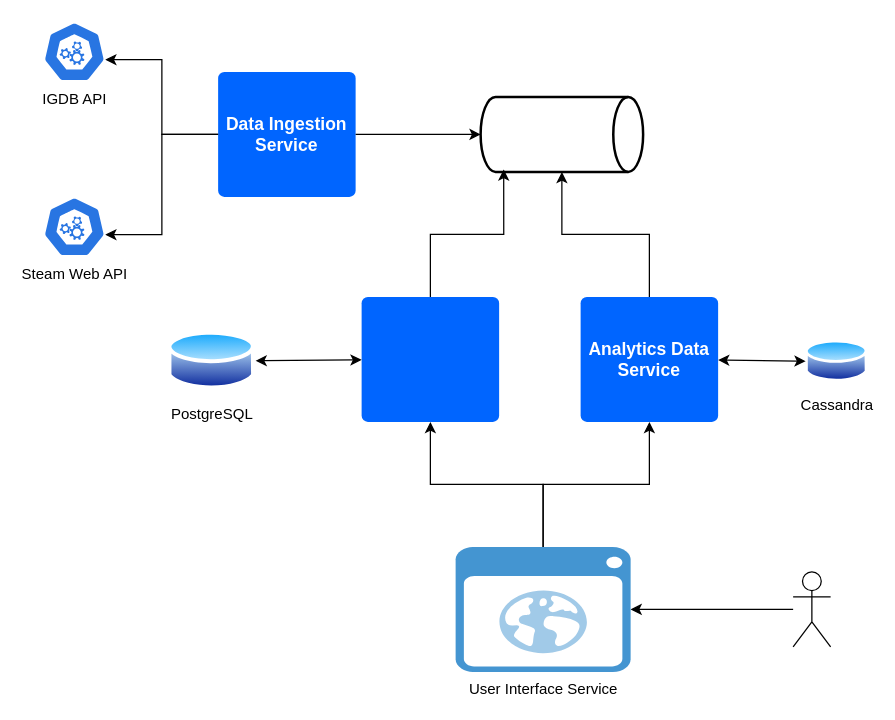
This 895x720 diagram has some shape labels left out. Each missing label, with the centre of its shape:
"Actor" belongs at pixel 811 609.
"Kafka" belongs at pixel 561 133.
"Master Data Service" belongs at pixel 429 358.
